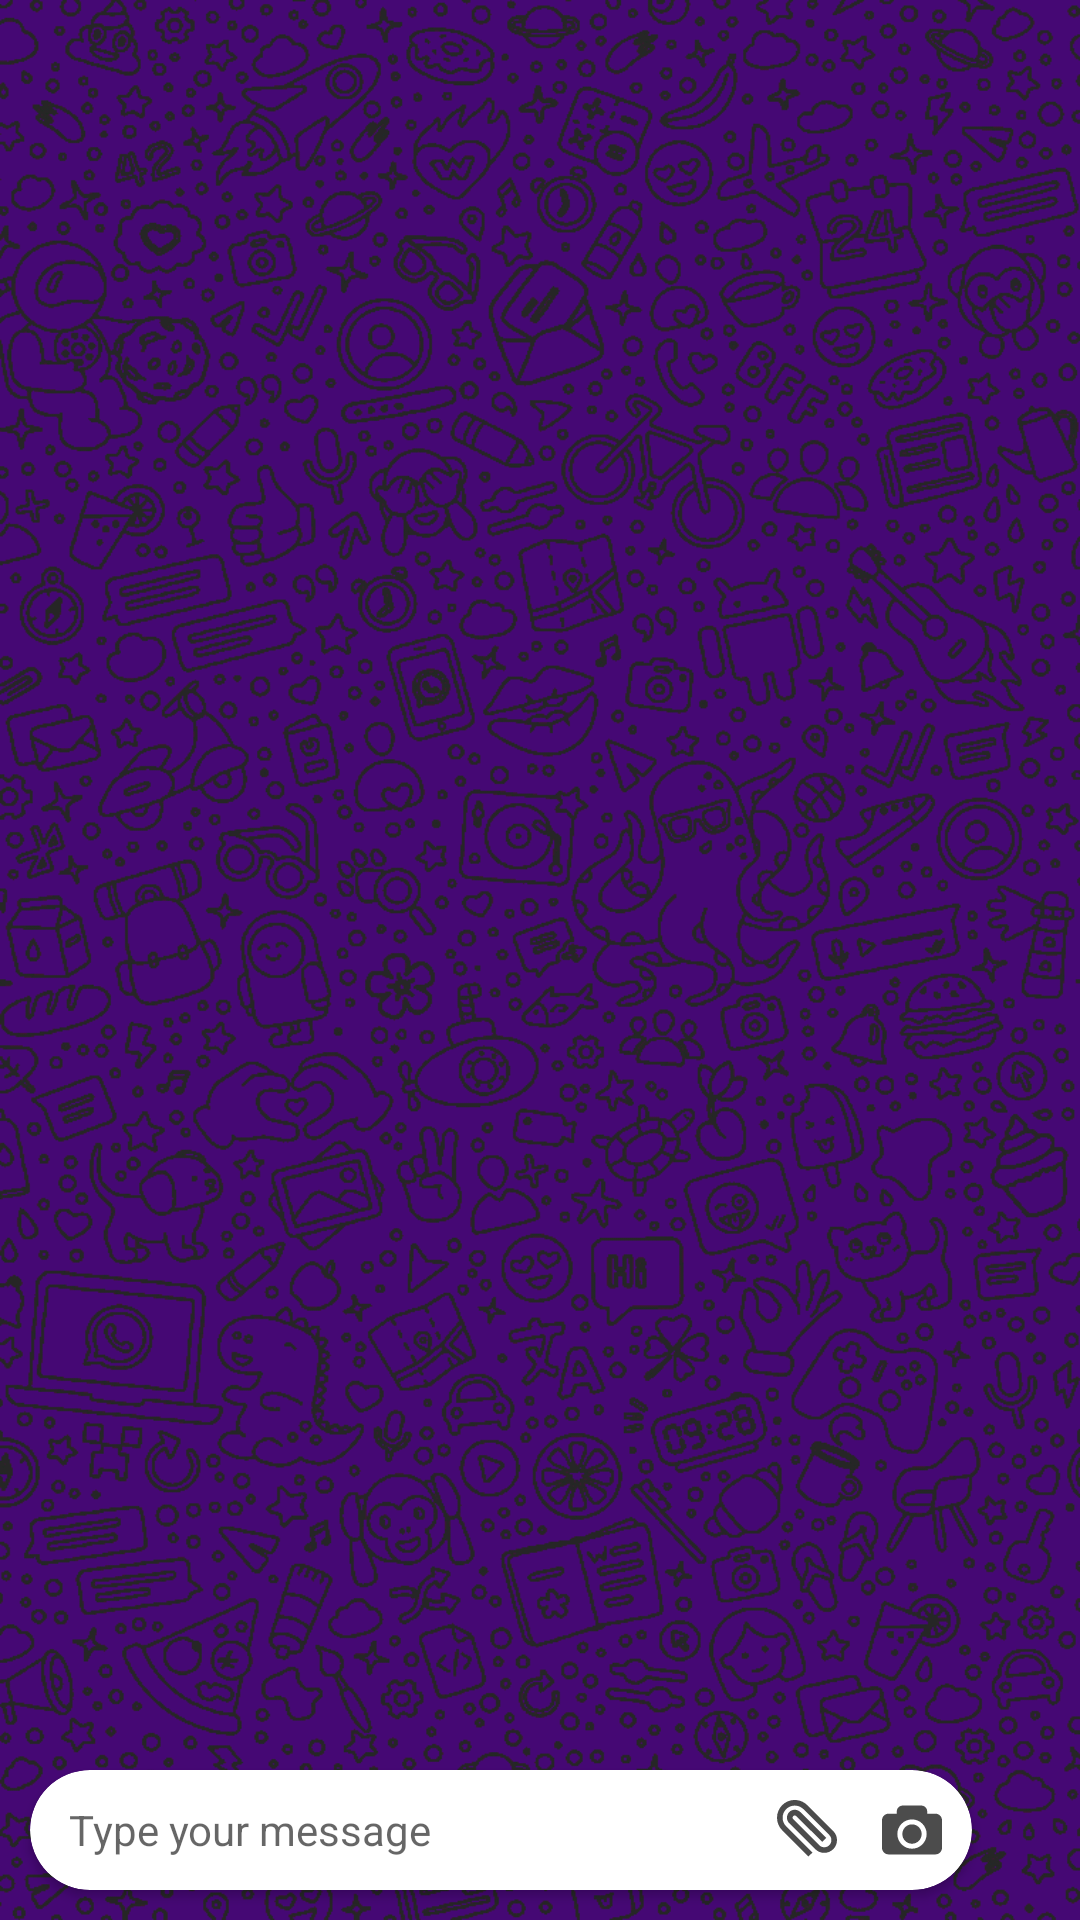

Icon click points for this 1080px x 1920px phone screenshot, format (x=x, y=y):
attachment: (x=807, y=1828)
camera: (x=912, y=1830)
